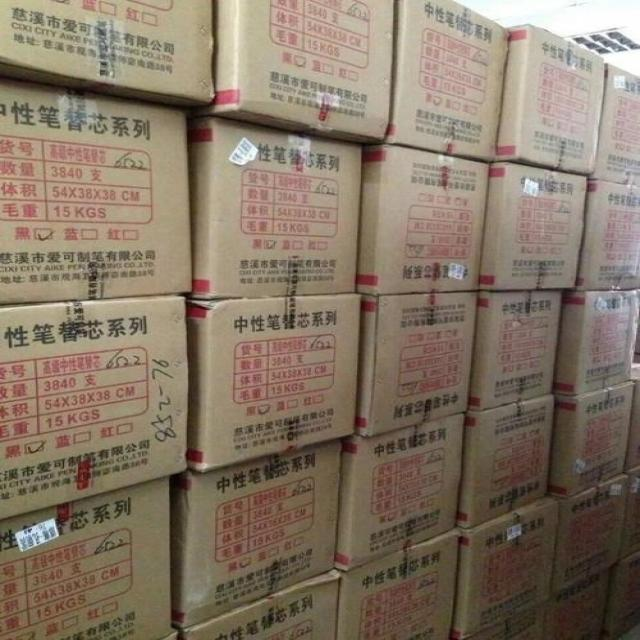box: (0, 77, 192, 305), (0, 296, 189, 521), (172, 437, 343, 629), (186, 116, 361, 301), (186, 295, 362, 472), (184, 0, 397, 142), (0, 478, 174, 640), (0, 0, 216, 107), (334, 415, 465, 571), (383, 0, 509, 161), (357, 144, 490, 296), (356, 291, 479, 438), (494, 23, 607, 175), (452, 497, 559, 639), (479, 162, 588, 291), (335, 529, 461, 639), (457, 393, 556, 529), (468, 290, 564, 412), (467, 564, 612, 639), (183, 570, 339, 639), (547, 381, 636, 499), (549, 474, 630, 596), (552, 290, 640, 395), (573, 179, 640, 291), (589, 64, 640, 186), (602, 553, 640, 640), (620, 465, 640, 558), (626, 362, 640, 473)
